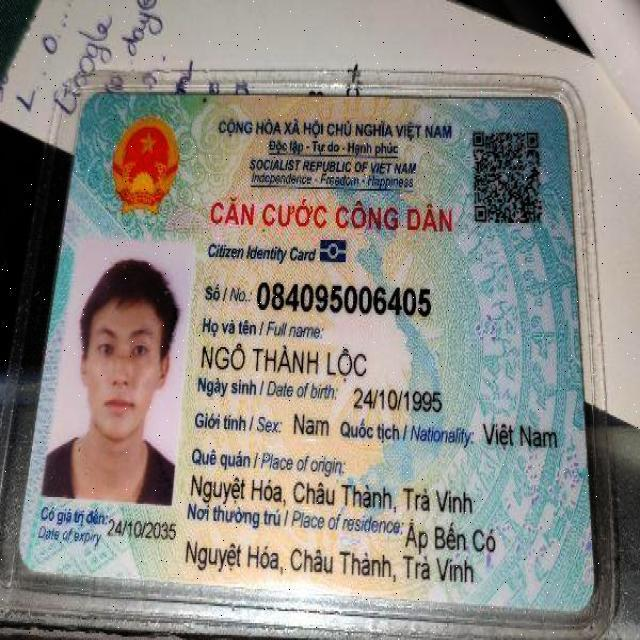current_place: (182, 536, 481, 592), (401, 517, 500, 555)
dob: (350, 386, 447, 414)
expire_date: (106, 512, 177, 543)
gender: (285, 408, 331, 442)
id: (254, 273, 437, 321)
name: (196, 338, 378, 382)
nationality: (478, 414, 569, 454)
origin_place: (191, 472, 474, 516)
